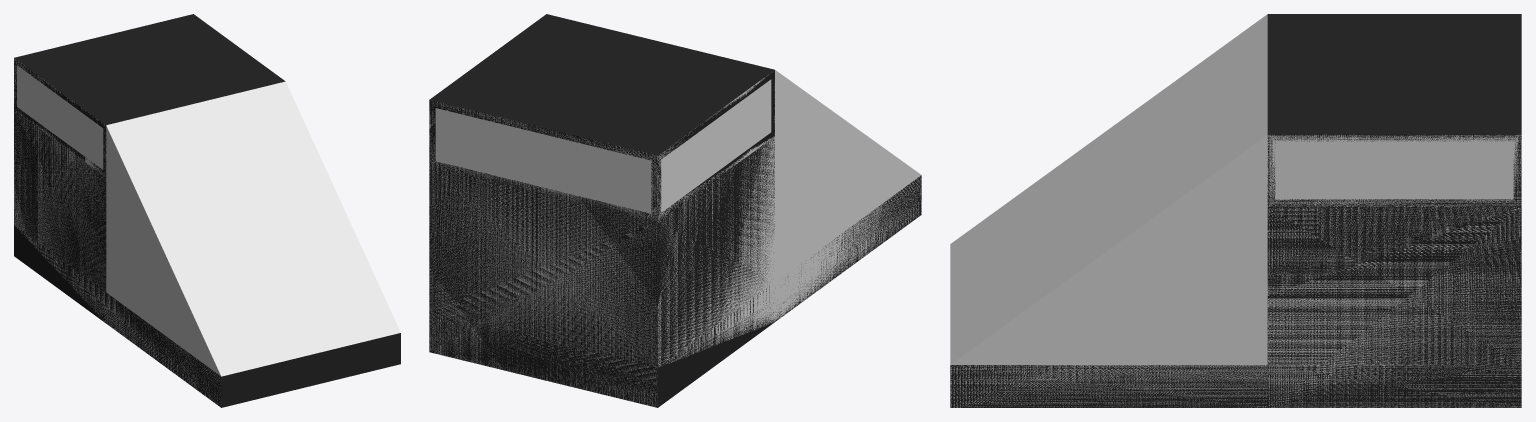
The model's file is truck.glb.
The picture shows the model from 3 angles, left to right: view 1: azimuth 30°, elevation 25°; view 2: azimuth 150°, elevation 25°; view 3: azimuth 270°, elevation 25°; orthographic projection. The views are drawn at different scales.
Visible parts, largest first — view 1: COL_hull, vehicles/truck, window.00, window.01, window.02; view 2: vehicles/truck, COL_hull, window.03, window.01, window.02; view 3: COL_hull, vehicles/truck, window.05, window.04, window.06.
Boxes of the visible parts, left/top/right/bottom form: COL_hull: left=14, top=58, right=400, bottom=406; vehicles/truck: left=14, top=14, right=400, bottom=407; window.00: left=14, top=59, right=48, bottom=134; window.01: left=42, top=78, right=82, bottom=151; window.02: left=84, top=116, right=106, bottom=176; vehicles/truck: left=429, top=14, right=921, bottom=407; COL_hull: left=429, top=70, right=921, bottom=407; window.03: left=429, top=102, right=657, bottom=218; window.01: left=694, top=91, right=748, bottom=177; window.02: left=745, top=74, right=771, bottom=154; COL_hull: left=950, top=14, right=1521, bottom=407; vehicles/truck: left=950, top=14, right=1521, bottom=407; window.05: left=1325, top=135, right=1444, bottom=206; window.04: left=1427, top=135, right=1521, bottom=206; window.06: left=1267, top=135, right=1330, bottom=206.
Size of the model in its own units: 2.25 by 2.37 by 4.5.
Materials: 2 (2 with a texture image).
